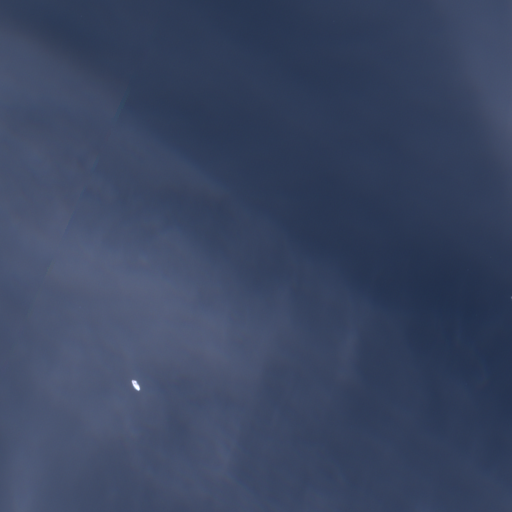Iceberg: (131, 379, 139, 390)
